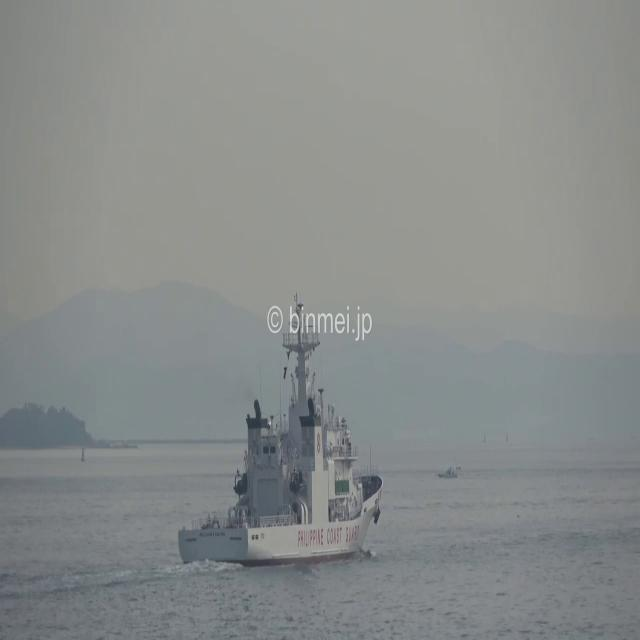Ship: (178, 380, 386, 567), (438, 466, 463, 480)
